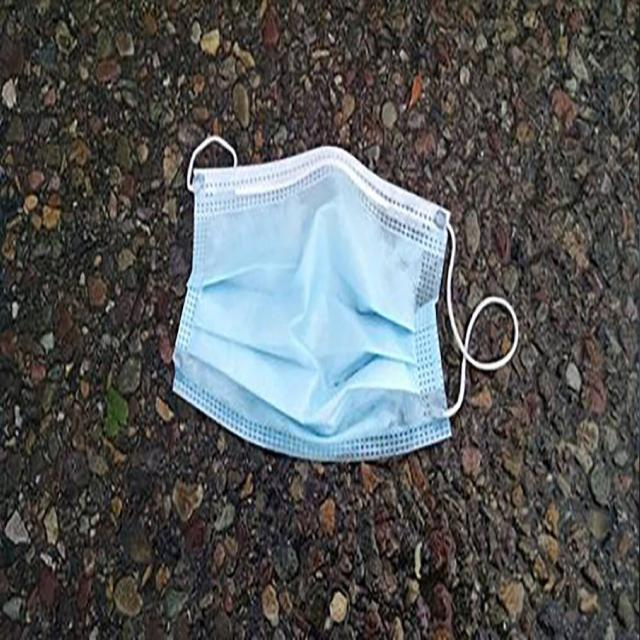face mask: (168, 136, 517, 464)
